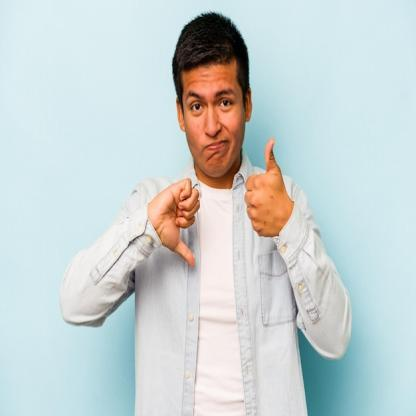thumb_down: (150, 174, 202, 271)
thumb_up: (244, 135, 292, 239)
